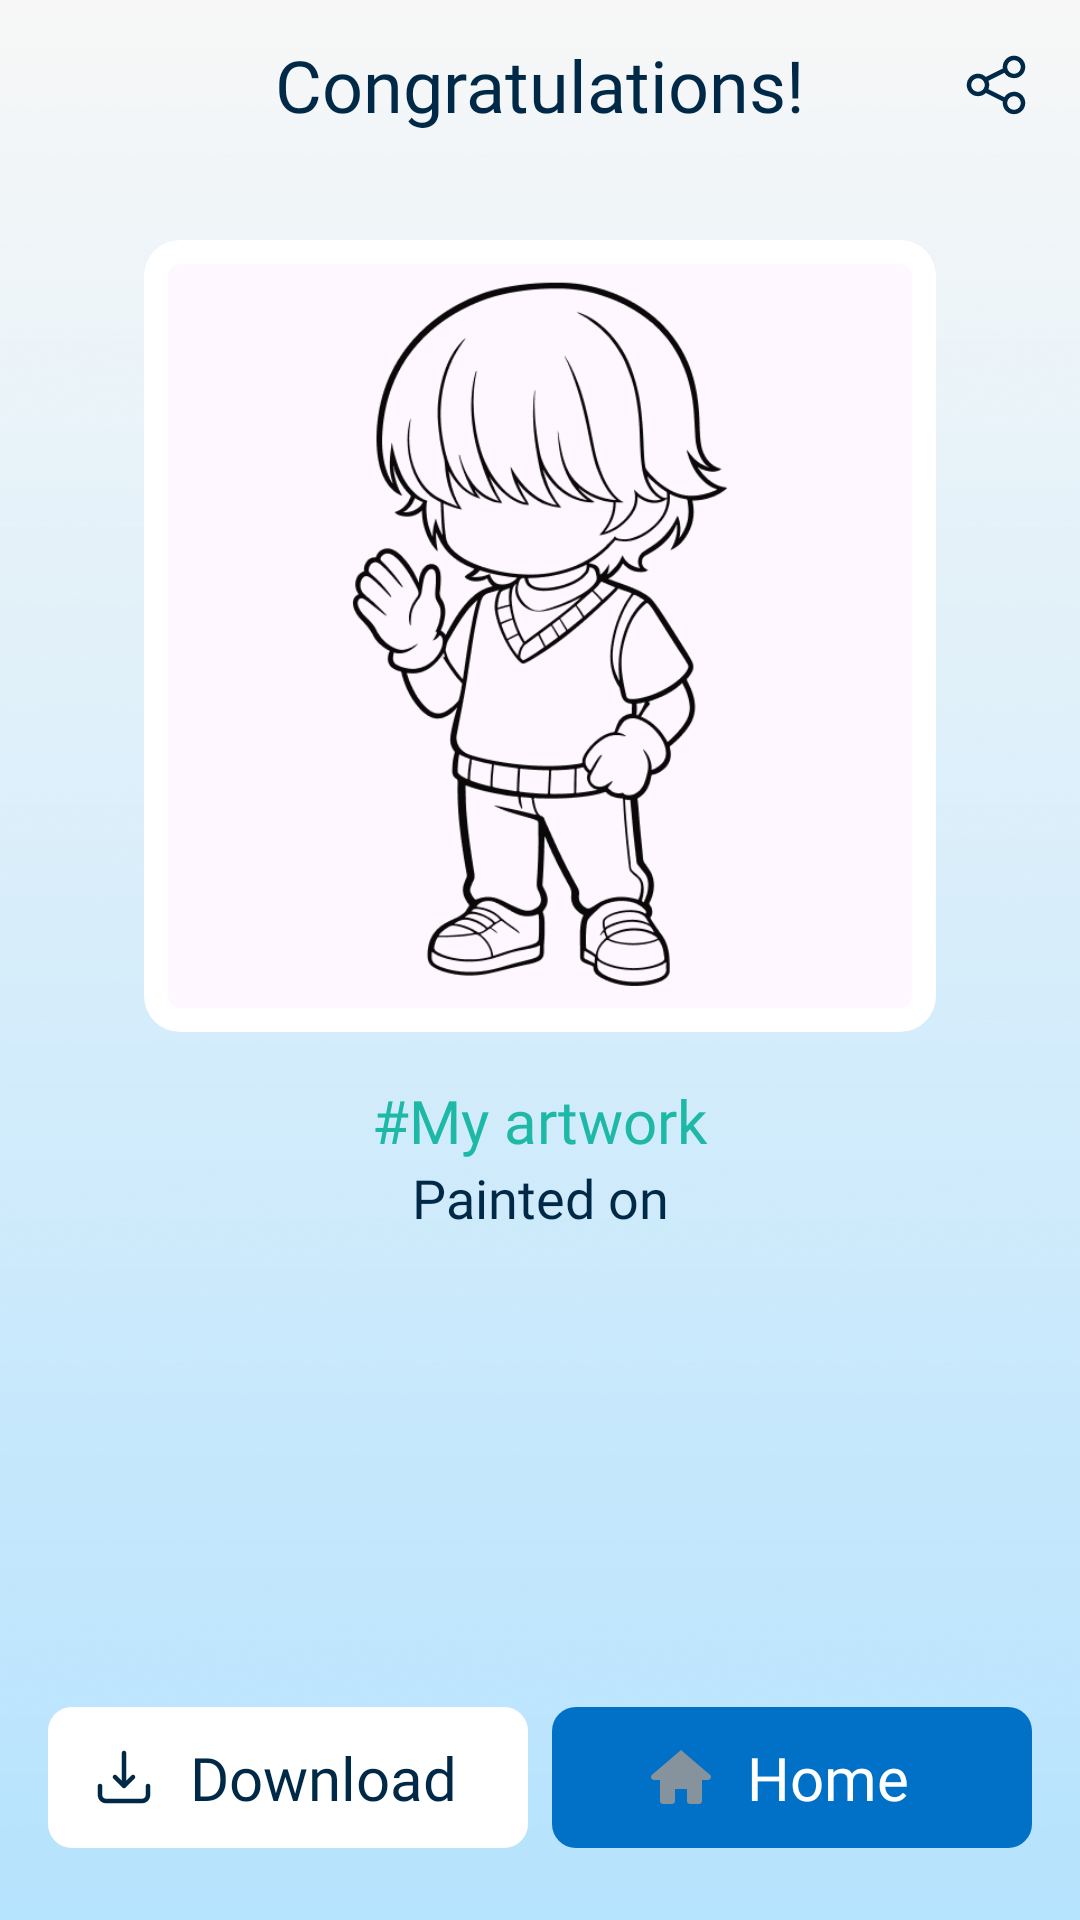

Screen size 1080*1920. Icon name, then its center in pixels as point (x, y):
share: point (996, 85)
